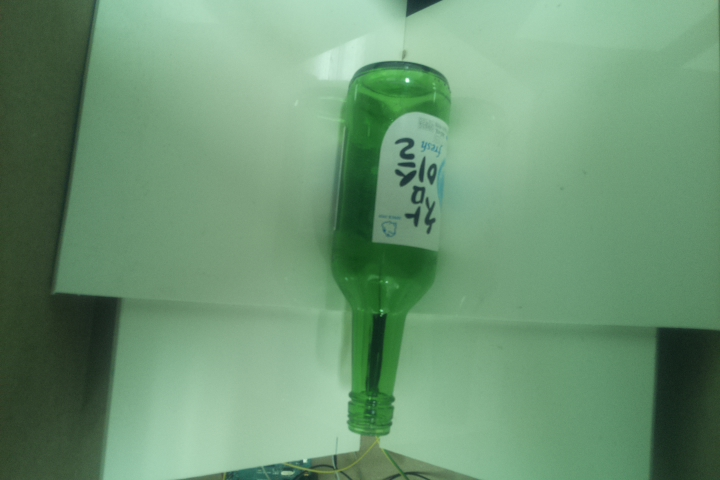soju: (326, 59, 453, 437)
